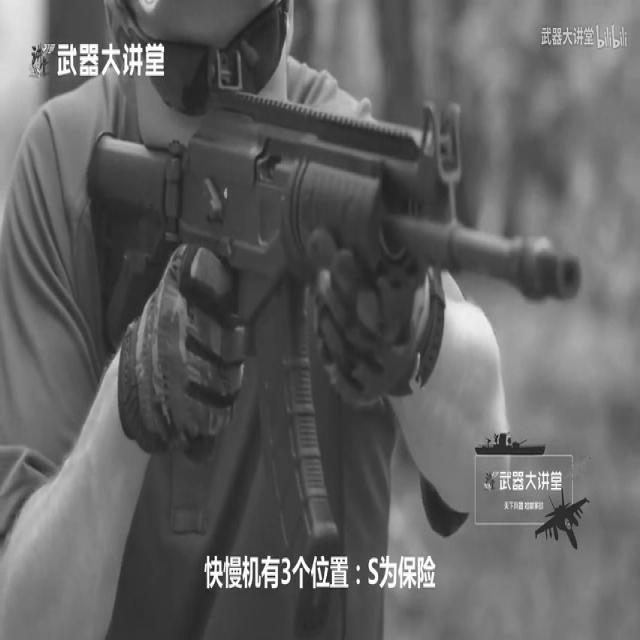Rifle: (44, 0, 601, 640)
